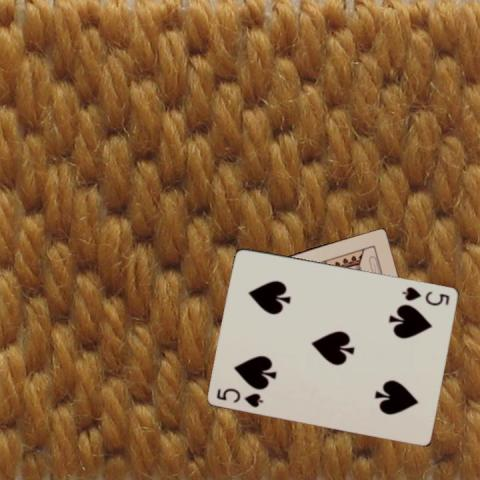5s: (400, 283, 452, 307), (214, 384, 265, 408)
